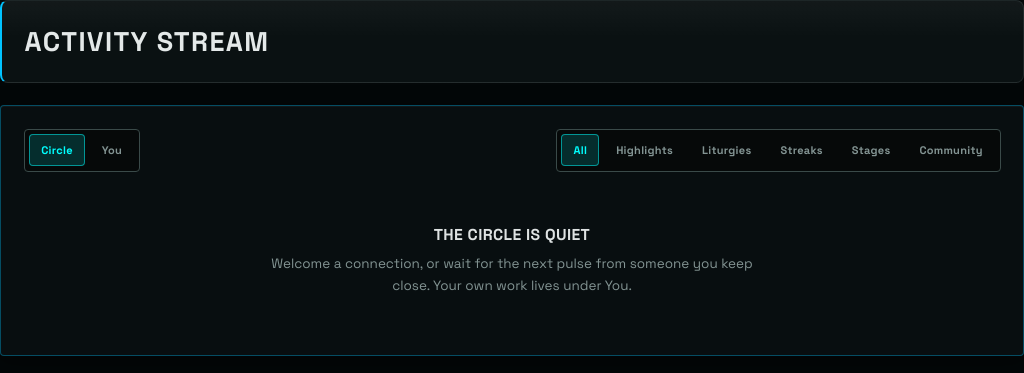
Test: ActivityStreamPage › requests the You slice when that audience is selected
Click the tab "You": (112, 150) [90,134,134,166]
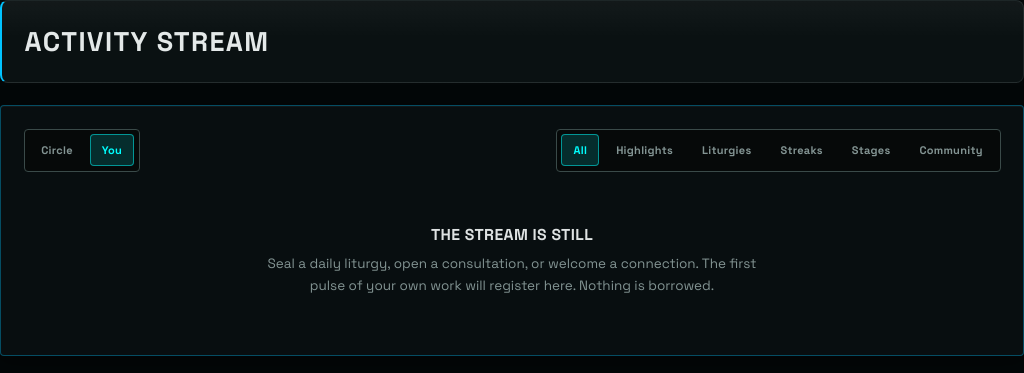
Now the text "Seal a daily liturgy, open a consultation, or welcome a connection. The first pulse of your own work will register here." is shown, box [268,255,756,294]
